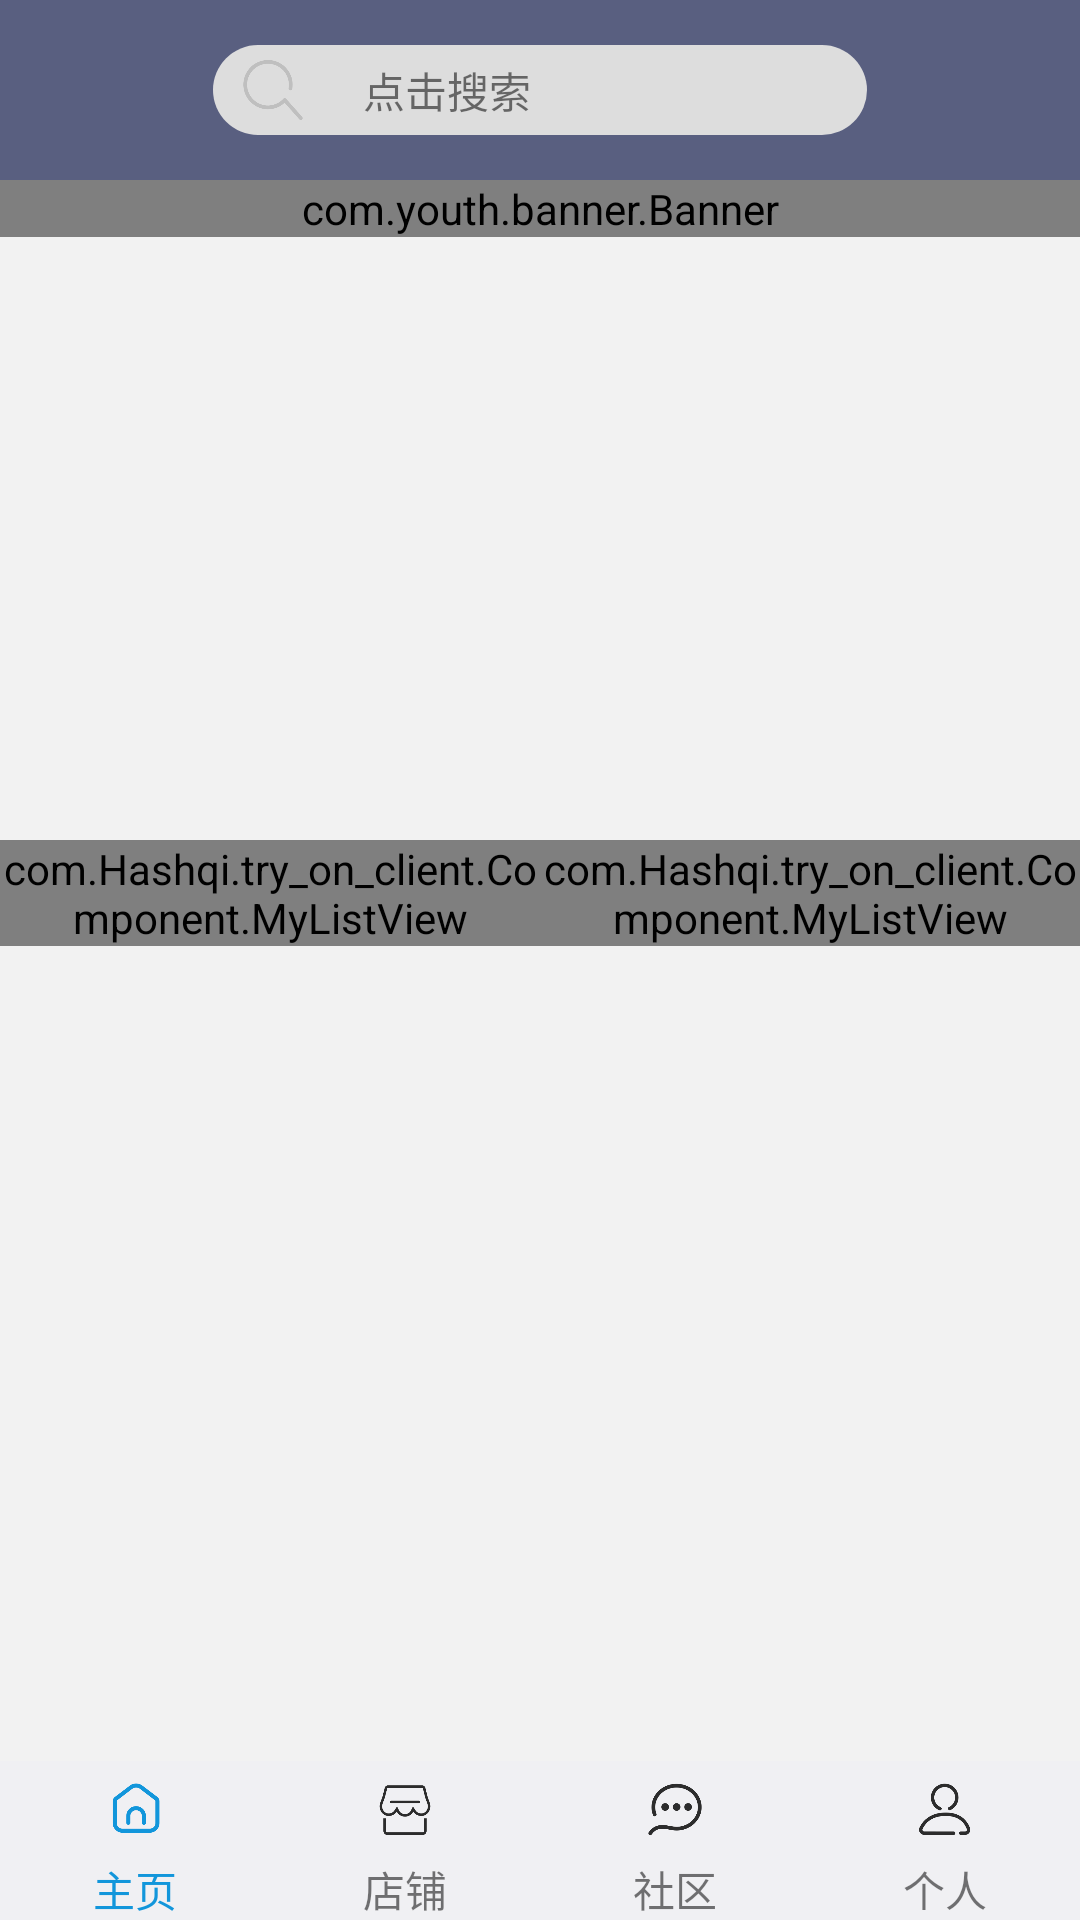

Named icons in this screenshot (1080px x 1920px) and their centers, (x,y):
message: (675,1809)
search: (273,90)
